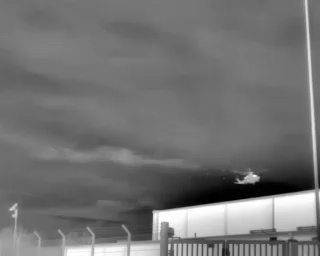HELICOPTER: (226, 162, 275, 190)
